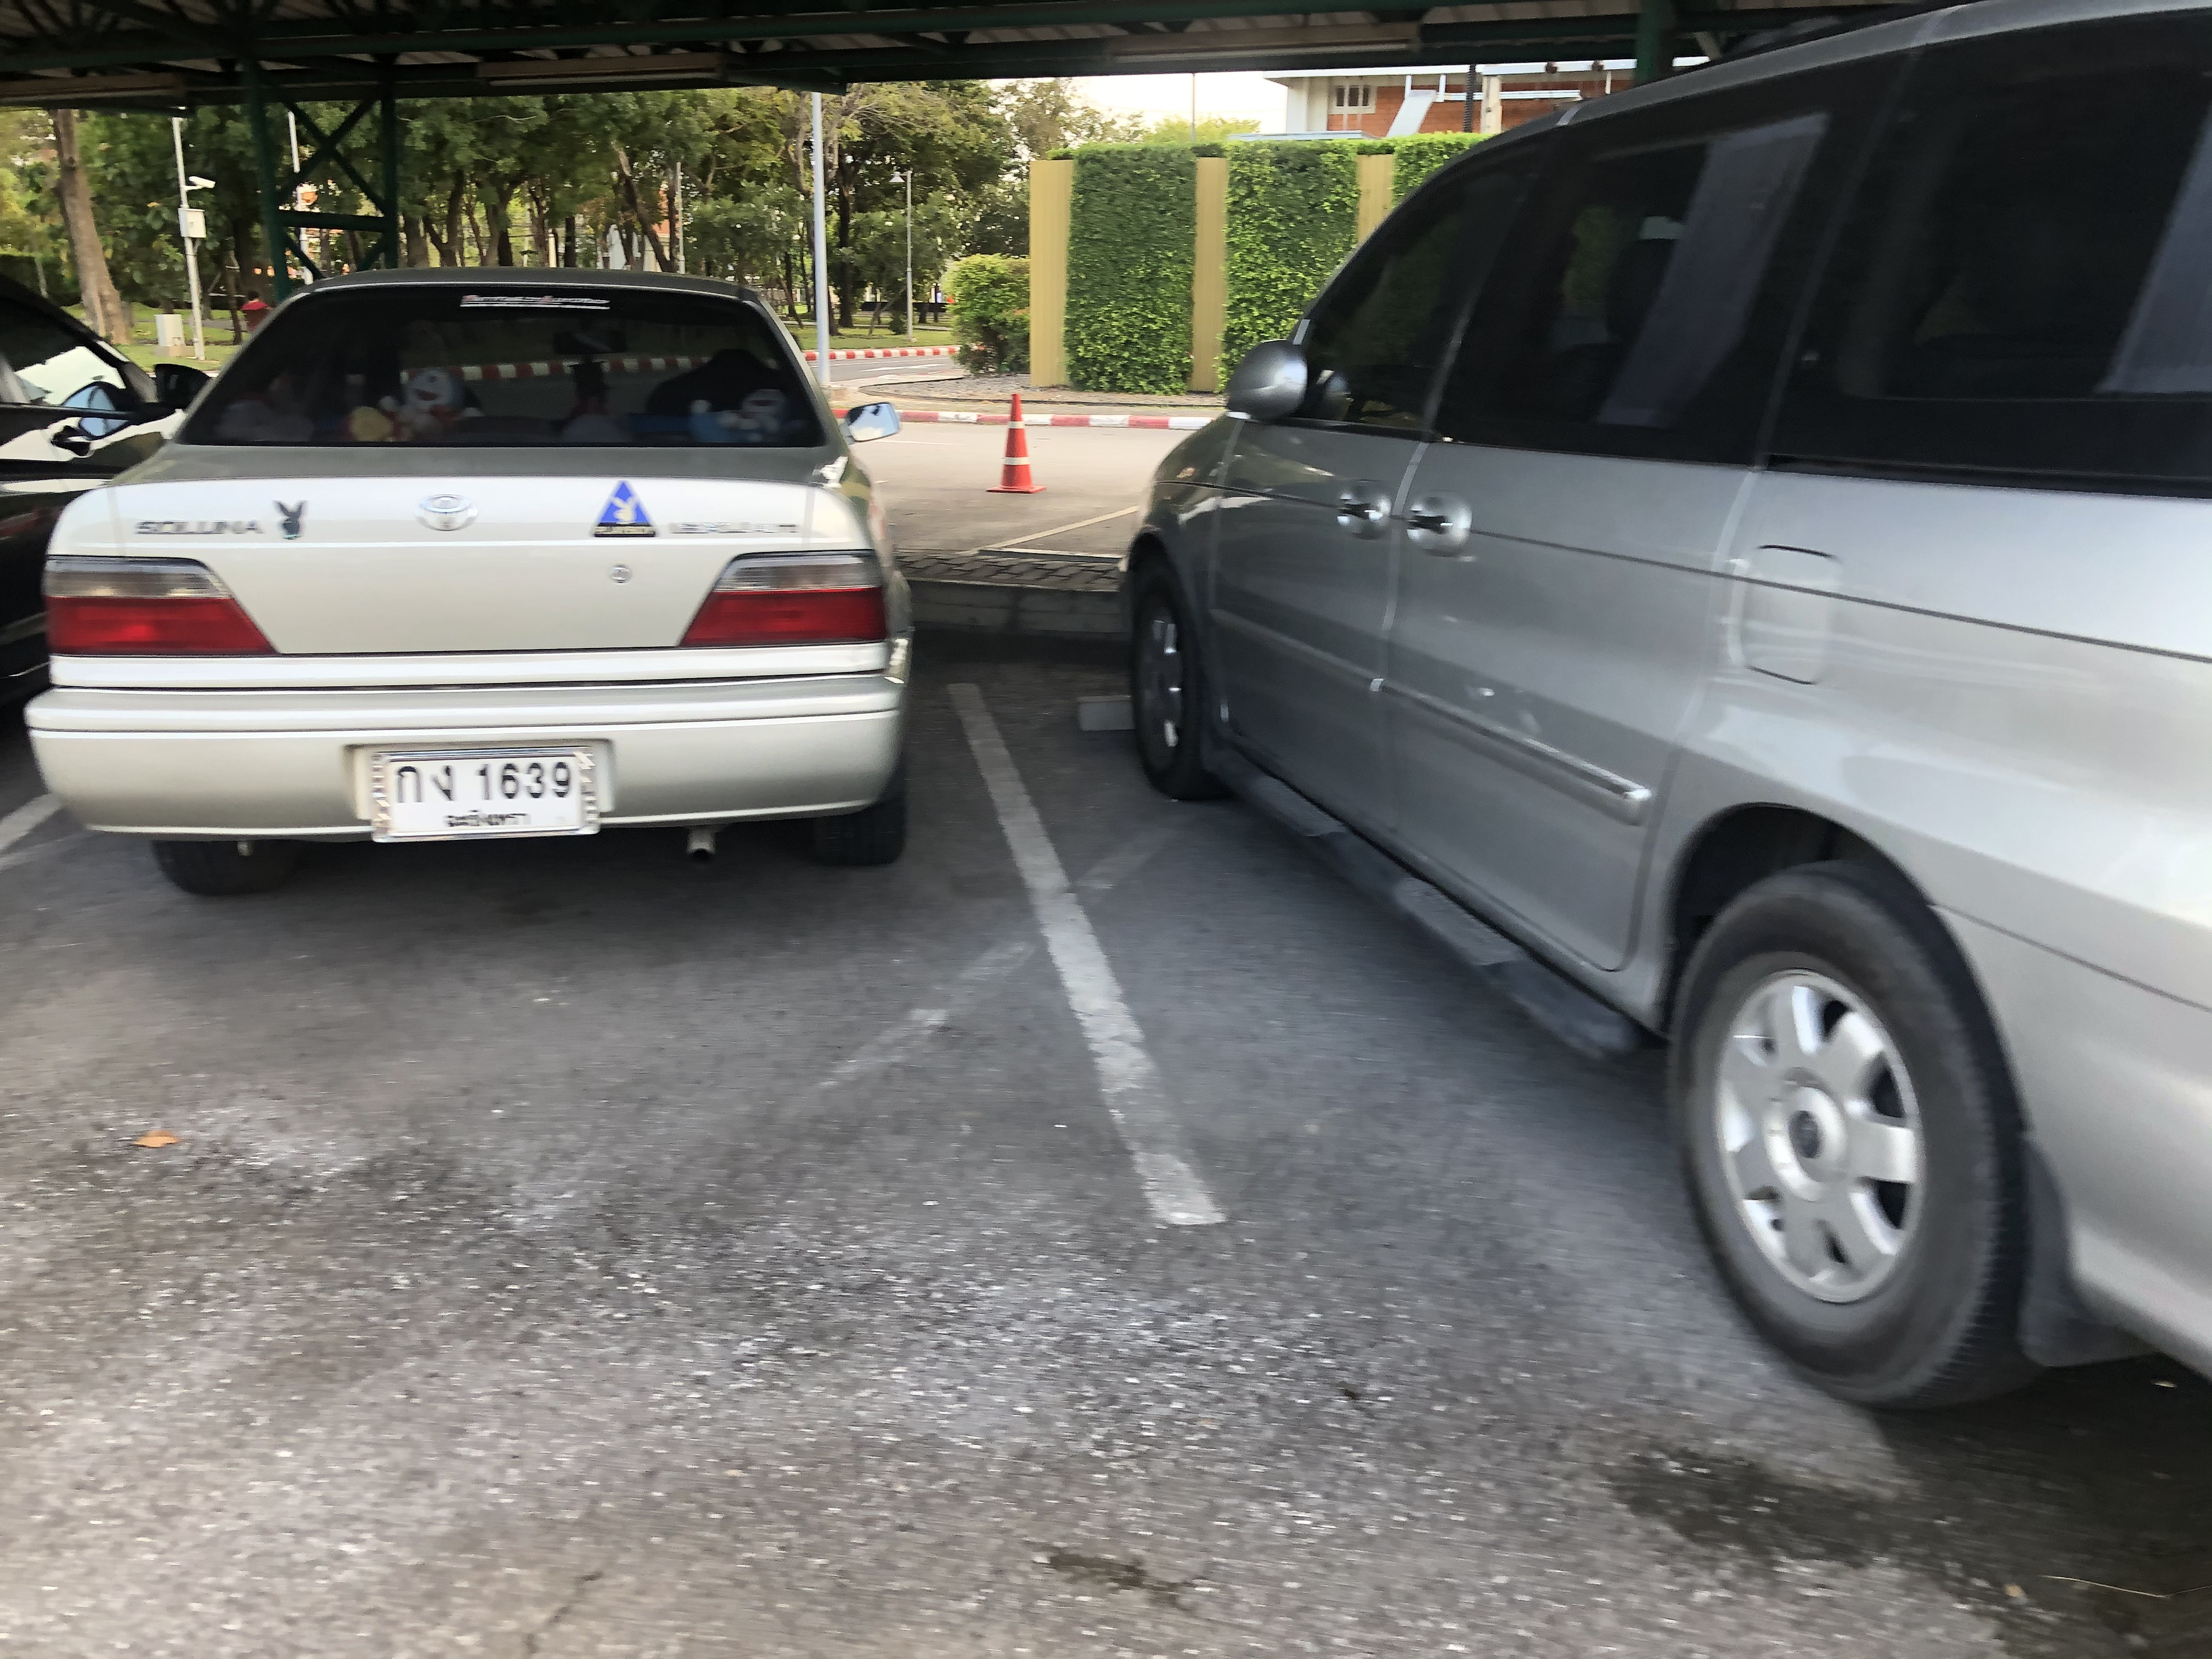in: (390, 756, 580, 828)
out: (369, 746, 603, 840)
